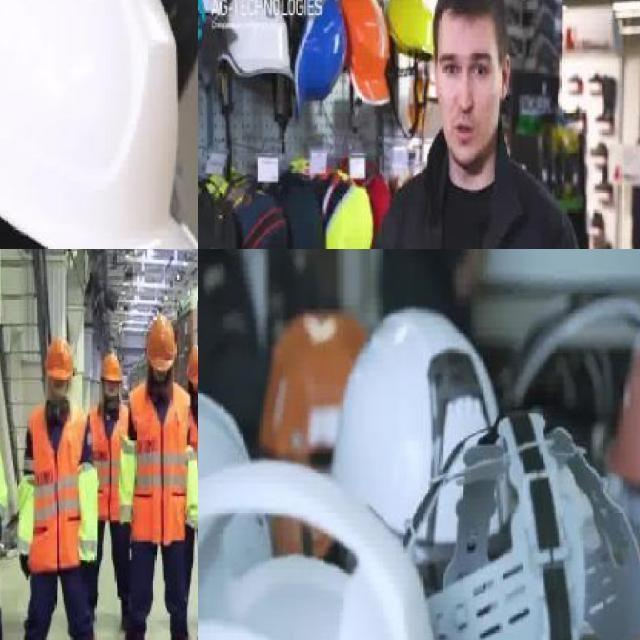apron: (118, 518, 132, 546), (78, 558, 95, 580), (18, 554, 31, 579)
